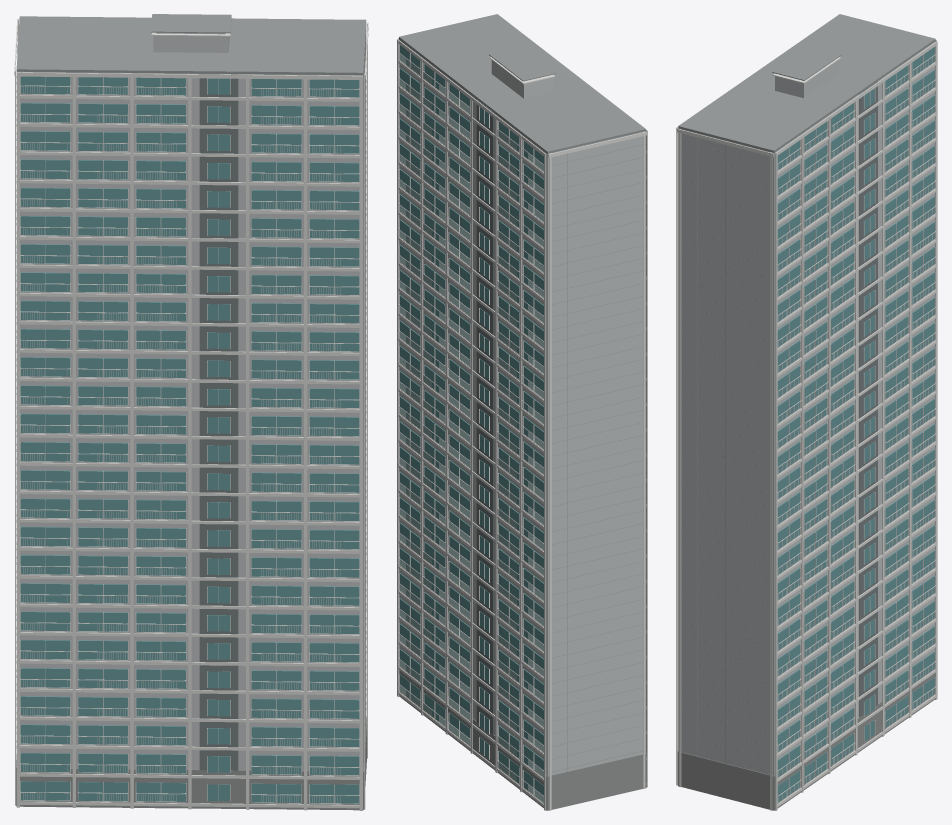
The model's file is bespoke-jamsil-ricenz-256.glb.
3 renders of one model, left to right at view 1: azimuth 30°, elevation 25°; view 2: azimuth 150°, elevation 25°; view 3: azimuth 270°, elevation 25°, orthographic. The views are drawn at different scales.
Parts seen in each view (by area): view 1: Ricenz256_editable_Ricenz256_turquoise_balcony_glazing, Ricenz256_editable_Ricenz256_light_grey_solid_wall, Ricenz256_white_exact_chunk_1, Ricenz256_white_exact_chunk_0, Ricenz256_editable_Ricenz256_modest_grey_flat_roof_caps, Ricenz256_editable_Ricenz256_narrow_charcoal_service_strips, Ricenz256_editable_Ricenz256_muted_ground_wall, Ricenz256_white_exact_chunk_3; view 2: Ricenz256_editable_Ricenz256_light_grey_solid_wall, Ricenz256_editable_Ricenz256_turquoise_balcony_glazing, Ricenz256_white_exact_chunk_3, Ricenz256_white_exact_chunk_2, Ricenz256_editable_Ricenz256_modest_grey_flat_roof_caps, Ricenz256_editable_Ricenz256_narrow_charcoal_service_strips, Ricenz256_editable_Ricenz256_muted_ground_wall, Ricenz256_white_exact_chunk_1; view 3: Ricenz256_editable_Ricenz256_light_grey_solid_wall, Ricenz256_editable_Ricenz256_turquoise_balcony_glazing, Ricenz256_white_exact_chunk_3, Ricenz256_white_exact_chunk_2, Ricenz256_editable_Ricenz256_modest_grey_flat_roof_caps, Ricenz256_white_exact_chunk_1, Ricenz256_editable_Ricenz256_narrow_charcoal_service_strips, Ricenz256_editable_Ricenz256_muted_ground_wall.
Boxes of the visible parts, <box> form: Ricenz256_editable_Ricenz256_turquoise_balcony_glazing: <box>20,76,359,803</box>; Ricenz256_editable_Ricenz256_light_grey_solid_wall: <box>17,26,366,771</box>; Ricenz256_white_exact_chunk_1: <box>16,22,368,810</box>; Ricenz256_white_exact_chunk_0: <box>20,76,188,806</box>; Ricenz256_editable_Ricenz256_modest_grey_flat_roof_caps: <box>16,14,366,762</box>; Ricenz256_editable_Ricenz256_narrow_charcoal_service_strips: <box>199,73,238,770</box>; Ricenz256_editable_Ricenz256_muted_ground_wall: <box>16,718,366,810</box>; Ricenz256_white_exact_chunk_3: <box>14,18,230,805</box>; Ricenz256_editable_Ricenz256_light_grey_solid_wall: <box>399,39,645,776</box>; Ricenz256_editable_Ricenz256_turquoise_balcony_glazing: <box>399,45,543,802</box>; Ricenz256_white_exact_chunk_3: <box>397,39,646,810</box>; Ricenz256_white_exact_chunk_2: <box>398,44,470,750</box>; Ricenz256_editable_Ricenz256_modest_grey_flat_roof_caps: <box>399,14,645,771</box>; Ricenz256_editable_Ricenz256_narrow_charcoal_service_strips: <box>476,99,493,734</box>; Ricenz256_editable_Ricenz256_muted_ground_wall: <box>399,666,646,810</box>; Ricenz256_white_exact_chunk_1: <box>398,38,647,787</box>; Ricenz256_editable_Ricenz256_light_grey_solid_wall: <box>678,41,935,775</box>; Ricenz256_editable_Ricenz256_turquoise_balcony_glazing: <box>777,47,934,802</box>; Ricenz256_white_exact_chunk_3: <box>773,40,937,810</box>; Ricenz256_white_exact_chunk_2: <box>777,121,855,788</box>; Ricenz256_editable_Ricenz256_modest_grey_flat_roof_caps: <box>678,14,935,772</box>; Ricenz256_white_exact_chunk_1: <box>676,126,801,810</box>; Ricenz256_editable_Ricenz256_narrow_charcoal_service_strips: <box>859,81,877,716</box>; Ricenz256_editable_Ricenz256_muted_ground_wall: <box>677,669,935,810</box>.
Size of the model in its own units: 34.92 by 79.91 by 27.88.
